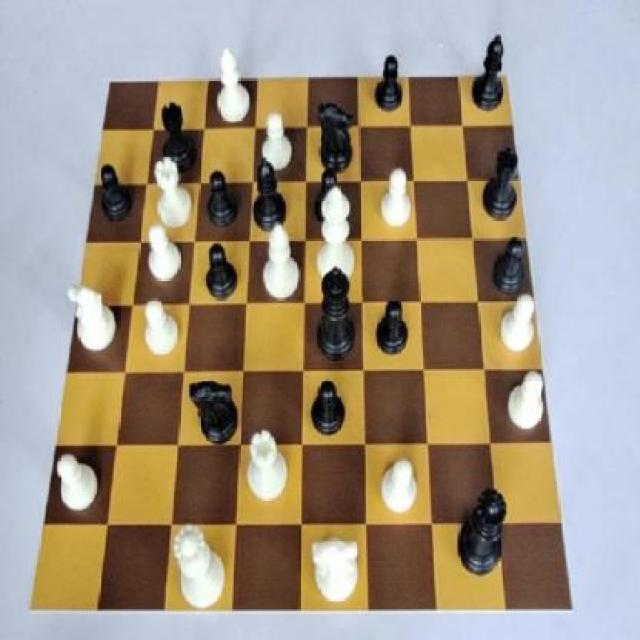bishop: (471, 22, 516, 118), (248, 150, 290, 252)
black-bishop: (312, 266, 361, 369)
black-king: (310, 92, 364, 176), (188, 371, 242, 450)
black-knight: (482, 238, 532, 310), (311, 161, 357, 237), (303, 370, 349, 442), (368, 291, 412, 366), (369, 43, 407, 128), (94, 157, 137, 232), (198, 165, 242, 237), (201, 240, 244, 305)
black-pawn: (454, 476, 510, 592)
black-queen: (476, 143, 526, 227), (160, 94, 198, 186)
black-rook: (206, 40, 257, 131), (258, 222, 302, 302)
white-bishop: (311, 185, 360, 300)
white-king: (68, 280, 122, 370), (310, 531, 368, 612)
white-knight: (501, 363, 554, 447), (135, 290, 184, 374), (52, 438, 98, 526), (497, 290, 548, 364), (380, 440, 421, 531), (374, 168, 420, 237), (256, 109, 300, 181), (143, 219, 185, 293)
white-pawn: (172, 522, 230, 618)
white-queen: (245, 419, 290, 516), (152, 154, 197, 236)
